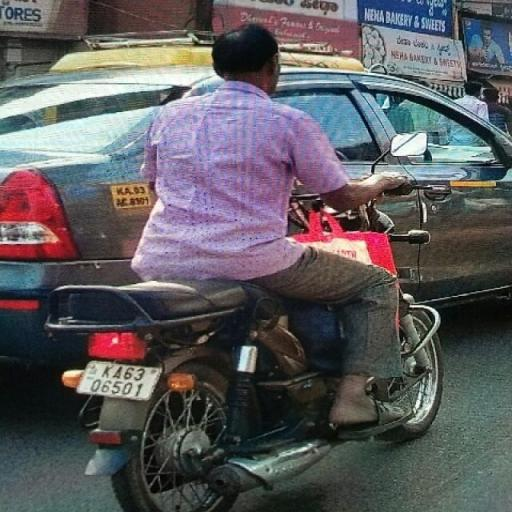bike: (43, 18, 451, 512)
numberplate: (78, 354, 158, 404)
withouthelmet: (216, 26, 279, 84)
